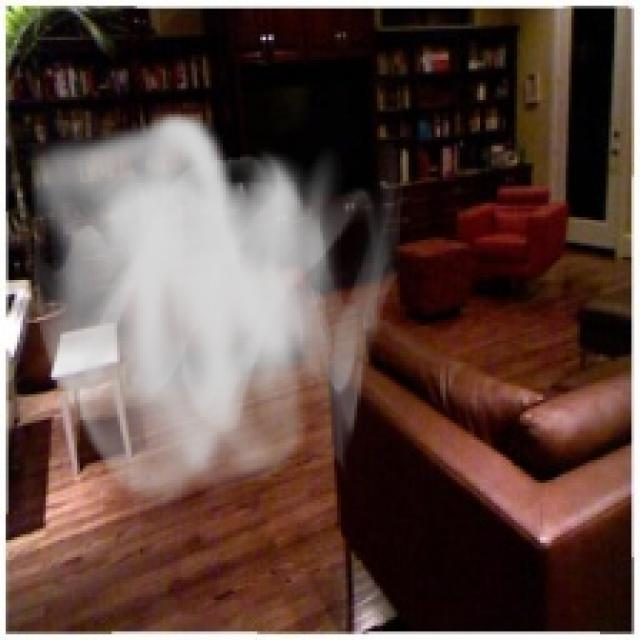Smoke: (20, 109, 406, 518)
